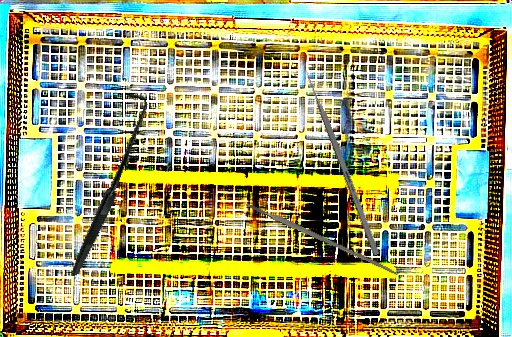Hook Surgical: (11, 89, 202, 277)
Pusher: (299, 61, 381, 256)
Scalpel Handle: (244, 199, 400, 278)
